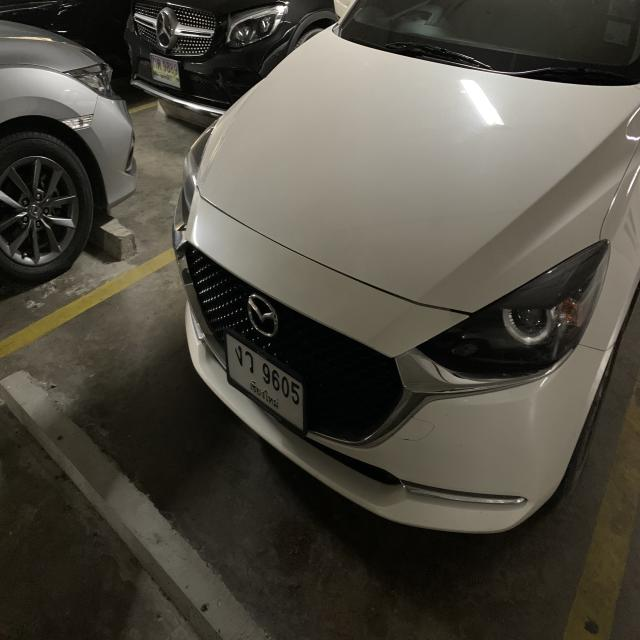license_plate: (223, 327, 309, 442), (149, 49, 182, 91)
